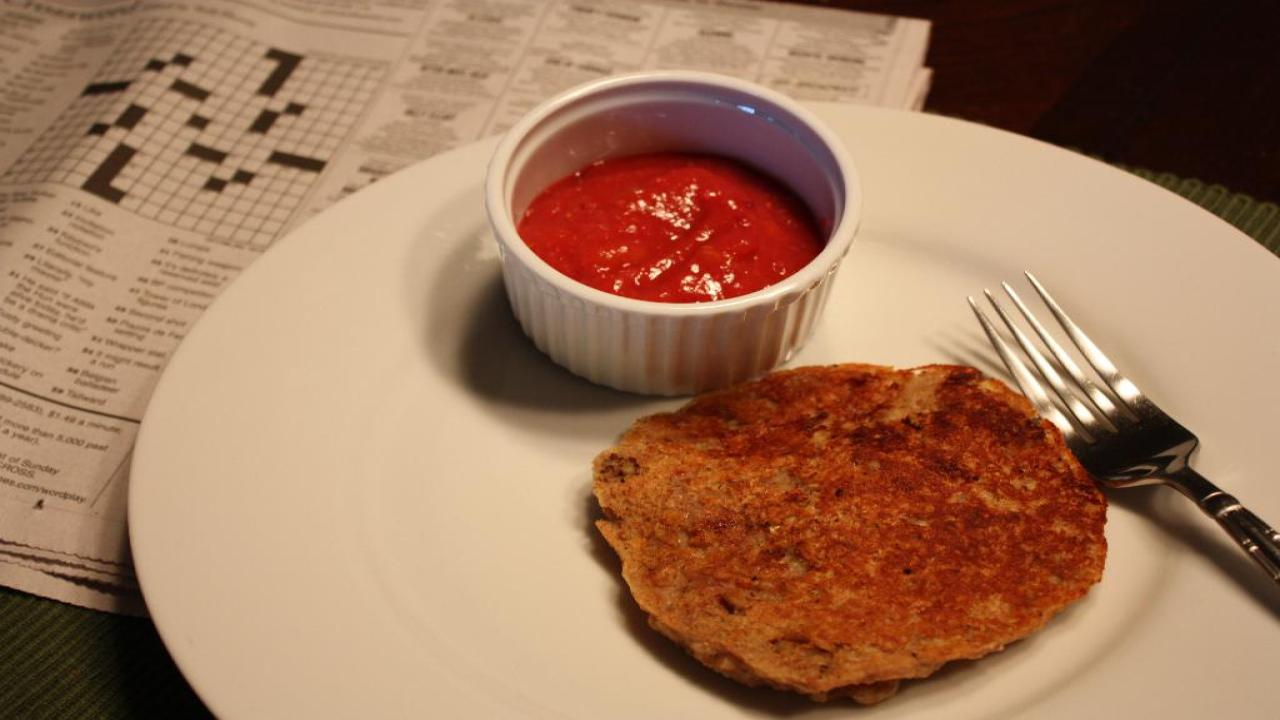fork: (961, 268, 1280, 594)
